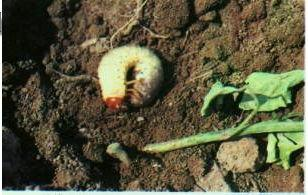grub: (97, 45, 164, 110)
